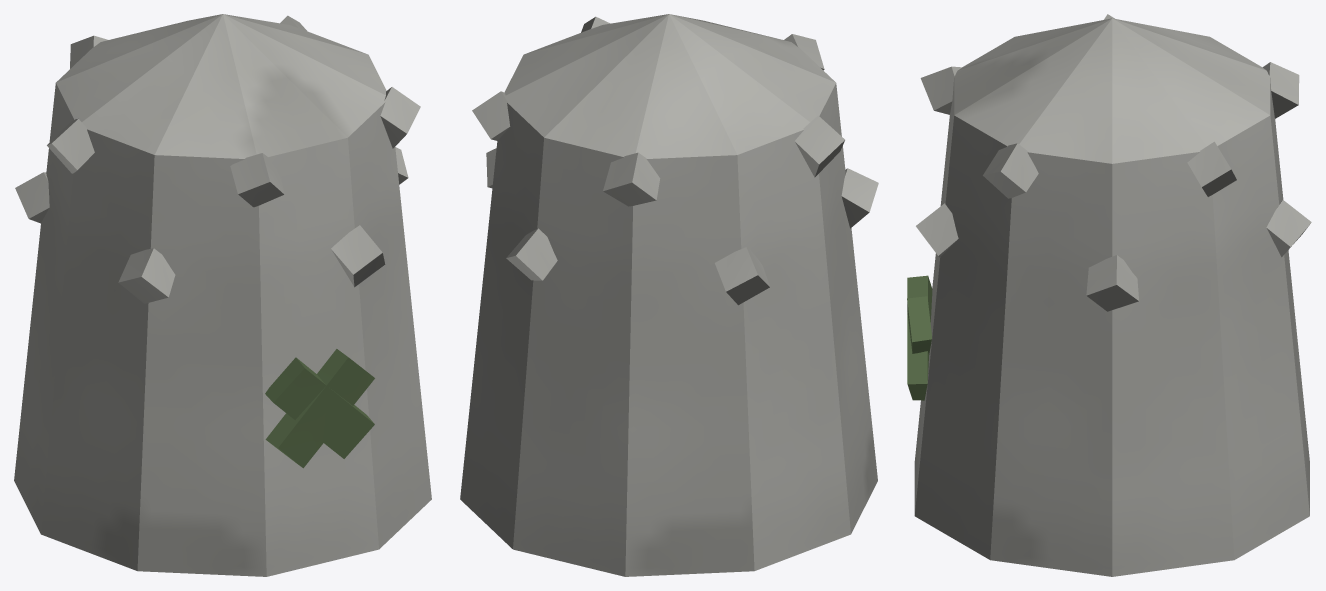
Rendered from lucky_thimble.glb.
3 views of the same model, side by side, from view 1: azimuth 30°, elevation 25°; view 2: azimuth 150°, elevation 25°; view 3: azimuth 270°, elevation 25° (orthographic).
Parts seen in each view (by area): view 1: LuckyThimble; view 2: LuckyThimble; view 3: LuckyThimble.
Boxes of the visible parts, left/top/right/bottom form: LuckyThimble: left=14, top=14, right=431, bottom=576; LuckyThimble: left=460, top=14, right=878, bottom=576; LuckyThimble: left=907, top=14, right=1311, bottom=576.
Bounding box in the file's own units: 0.112 × 0.14 × 0.1091.
Materials: 2 (2 with a texture image).
